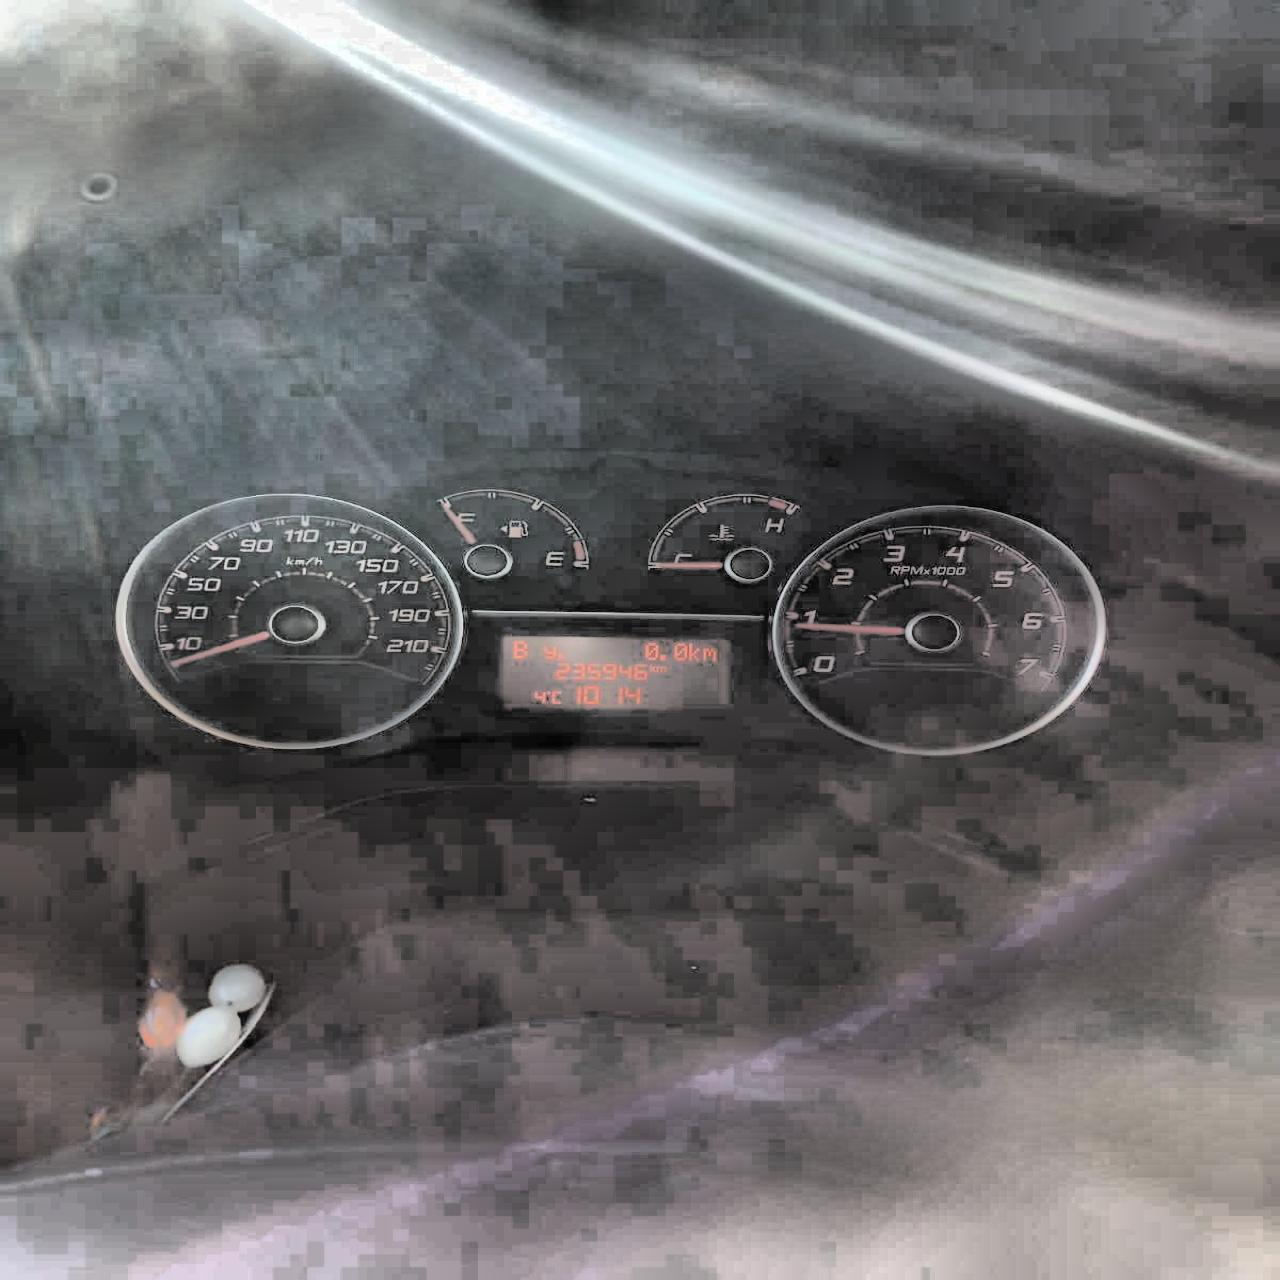-: (556, 652, 564, 659), (659, 654, 666, 660)
0: (581, 685, 599, 704), (672, 641, 687, 661), (644, 641, 658, 660)
1: (573, 685, 581, 703), (617, 686, 622, 704)
2: (554, 662, 570, 679)
3: (570, 662, 585, 680)
4: (622, 686, 640, 704), (618, 663, 633, 679), (533, 689, 545, 703)
5: (586, 663, 600, 679)
6: (633, 663, 647, 680)
9: (601, 662, 617, 680)
X: (511, 640, 527, 659), (701, 647, 717, 662), (687, 642, 700, 661), (542, 645, 557, 659), (550, 690, 560, 703), (655, 665, 666, 672), (647, 663, 655, 672)
odometer: (495, 632, 741, 713)
